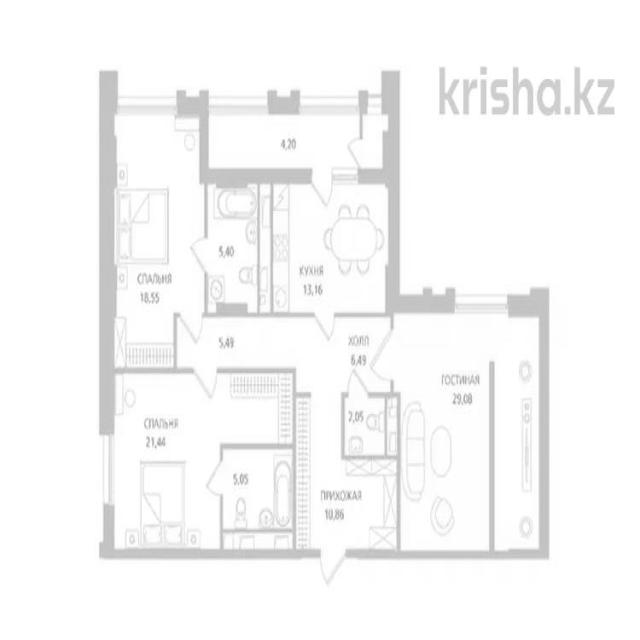bathroom: (220, 446, 298, 542), (208, 175, 261, 313), (345, 391, 401, 459)
hallway: (206, 104, 392, 176), (299, 457, 397, 556), (294, 308, 392, 396), (178, 316, 290, 372)
kitchen: (275, 176, 391, 306)
living_room: (397, 307, 495, 558), (110, 366, 222, 549), (110, 108, 205, 318)
